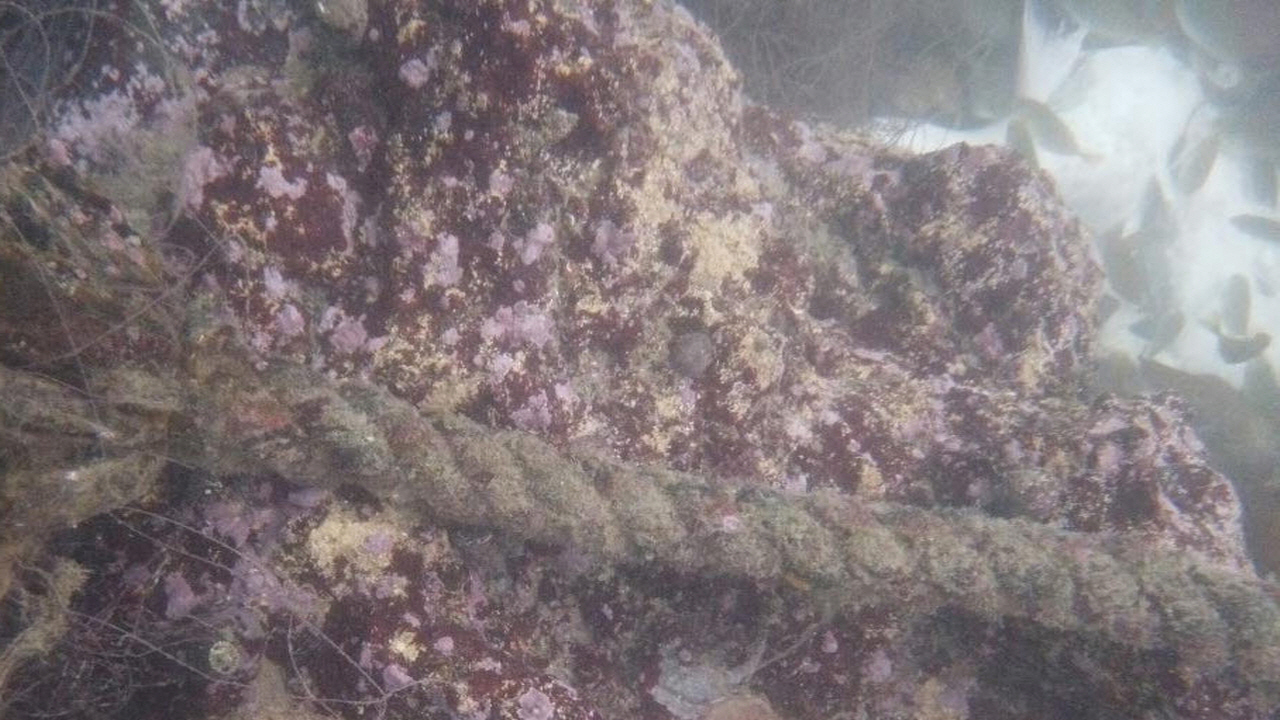rope: (207, 351, 1279, 661)
